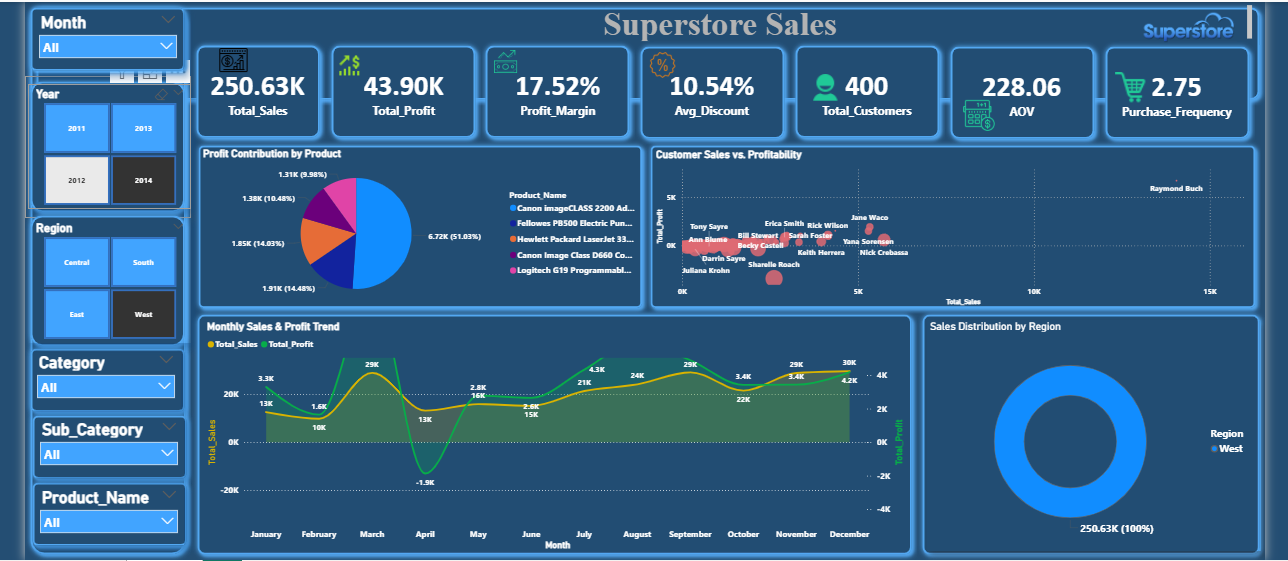

This screenshot's page, from the dashboard's own definition file:
{"tool":"powerbi","page":{"name":"Page 1","canvas":[2000,900],"ordinal":0},"visuals":[{"type":"shape","box":[0,0,2000,166.7],"z":0},{"type":"shape","box":[0,0,268.3,900],"z":1000},{"type":"shape","box":[268.3,61.2,216.7,166.7],"z":2000,"group":"g5"},{"type":"group","id":"g1","title":"Group 1","box":[1733.4,62.9,250,166.7],"z":2000,"group":"g18"},{"type":"shape","box":[484.7,60.7,250,166.7],"z":3000,"group":"g4"},{"type":"group","id":"g2","title":"Group 2","box":[1483.6,62.5,250,166.7],"z":3000,"group":"g19"},{"type":"shape","box":[10,10,250,166.7],"z":4000},{"type":"shape","box":[734.4,61.6,250,166.7],"z":4000,"group":"g3"},{"type":"shape","box":[984.2,63.3,250,166.7],"z":4000,"group":"g16"},{"type":"group","id":"g3","title":"Group 4","box":[734.4,61.6,250,166.7],"z":5000,"group":"g22"},{"type":"shape","box":[1233.9,62,250,166.7],"z":5000,"group":"g17"},{"type":"group","id":"g4","title":"Group 5","box":[484.7,60.7,250,166.7],"z":6000,"group":"g23"},{"type":"shape","box":[1483.6,62.5,250,166.7],"z":6000,"group":"g2"},{"type":"group","id":"g5","title":"Group 6","box":[268.3,61.2,216.7,166.7],"z":7000,"group":"g21"},{"type":"shape","box":[1733.4,62.9,250,166.7],"z":7000,"group":"g1"},{"type":"card","fields":{"Values":["All_Measure.Total_Sales"]},"box":[281.3,74.5,189.2,138.3],"z":8000,"group":"g5"},{"type":"group","id":"g6","title":"Group 7","box":[0,120,268.3,228.3],"z":8000},{"type":"shape","box":[0,120,266.7,228.3],"z":8000,"group":"g6"},{"type":"shape","box":[0,335,266.7,228.3],"z":8000,"group":"g8"},{"type":"card","fields":{"Values":["All_Measure.Total_Profit"]},"box":[500,74,218.3,138.3],"z":8001,"group":"g4"},{"type":"card","fields":{"Values":["All_Measure.Profit_Margin"]},"box":[750.1,74.9,218.3,138.3],"z":8002,"group":"g3"},{"type":"card","fields":{"Values":["All_Measure.Avg_Discount"]},"box":[999.2,74.9,218.3,138.3],"z":8002,"group":"g16"},{"type":"card","fields":{"Values":["All_Measure.Total_Customers"]},"box":[1248.2,75.3,218.3,138.3],"z":8003,"group":"g17"},{"type":"card","fields":{"Values":["All_Measure.AOV"]},"box":[1498.3,75.8,218.3,138.3],"z":8004,"group":"g2"},{"type":"card","fields":{"Values":["All_Measure.Purchase_Frequency"]},"box":[1748.4,76.1,218.3,138.3],"z":8005,"group":"g1"},{"type":"slicer","fields":{"Values":["FactSales.Order_Date.Variation.Date Hierarchy.Year"]},"box":[5,133.3,263.3,201.7],"z":9000,"group":"g6"},{"type":"slicer","fields":{"Values":["Dim_Geography.Region"]},"box":[5,348.3,263.3,201.7],"z":9000,"group":"g8"},{"type":"group","id":"g7","title":"Group 9","box":[0,550,266.7,120],"z":9000},{"type":"shape","box":[3.3,658.3,266.7,120],"z":9000,"group":"g10"},{"type":"group","id":"g8","title":"Group 10","box":[0,335,268.3,228.3],"z":10000},{"type":"shape","box":[0,0,266.7,120],"z":11000,"group":"g11"},{"type":"group","id":"g9","title":"Group 8","box":[3.3,766.7,266.7,120],"z":11000},{"type":"group","id":"g10","title":"Group 11","box":[3.3,658.3,266.7,120],"z":12000},{"type":"group","id":"g11","title":"Group 12","box":[0,0,266.7,120],"z":13000},{"type":"slicer","fields":{"Values":["FactSales.Order_Date.Variation.Date Hierarchy.Month"]},"box":[13.3,11.7,241.7,103.3],"z":13000,"group":"g11"},{"type":"shape","box":[0,550,266.7,120],"z":13000,"group":"g7"},{"type":"group","id":"g12","title":"Group 13","box":[1000,223.3,993.3,280],"z":14000},{"type":"shape","box":[270,495,1170,405],"z":14000,"group":"g14"},{"type":"slicer","fields":{"Values":["Dim_Product.Category"]},"box":[10,560,241.7,98.3],"z":14000,"group":"g7"},{"type":"shape","box":[3.3,766.7,266.7,120],"z":14000,"group":"g9"},{"type":"group","id":"g13","title":"Group 14","box":[1438.3,495,561.7,405],"z":15000},{"type":"areaChart","title":"Monthly Sales & Profit Trend","fields":{"Category":["FactSales.Order_Date.Variation.Date Hierarchy.Month"],"Y":["All_Measure.Total_Sales"],"Y2":["All_Measure.Total_Profit"]},"box":[290,513.3,1133.3,376.7],"z":15000,"group":"g14"},{"type":"slicer","fields":{"Values":["Dim_Product.Sub_Category"]},"box":[15,668.3,241.7,98.3],"z":15000,"group":"g10"},{"type":"group","id":"g14","title":"Group 15","box":[270,495,1170,405],"z":16000},{"type":"shape","box":[1438.3,495,561.7,405],"z":16000,"group":"g13"},{"type":"slicer","fields":{"Values":["Dim_Product.Product_Name"]},"box":[15,778.4,241.7,98.3],"z":16000,"group":"g9"},{"type":"group","id":"g15","title":"Group 16","box":[271.7,223.3,733.3,280],"z":17000},{"type":"donutChart","title":"Sales Distribution by Region","fields":{"Category":["Dim_Geography.Region"],"Y":["All_Measure.Total_Sales"]},"box":[1455,513.3,538.3,373.3],"z":17000,"group":"g13"},{"type":"textbox","box":[266,0,1718,68],"z":18000},{"type":"shape","box":[271.7,223.3,733.3,280],"z":18000,"group":"g15"},{"type":"group","id":"g16","title":"Group 4","box":[984.2,63.3,250,166.7],"z":19000,"group":"g24"},{"type":"pieChart","title":"Profit Contribution by Product","fields":{"Category":["Dim_Product.Product_Name"],"Y":["All_Measure.Total_Profit"]},"box":[283.4,235,716.7,260],"z":19000,"group":"g15"},{"type":"group","id":"g17","title":"Group 3","box":[1233.9,62,250,166.7],"z":20000,"group":"g20"},{"type":"shape","box":[1000,223.3,993.3,280],"z":20000,"group":"g12"},{"type":"image","box":[1789.4,10.8,176.4,57.6],"z":21000},{"type":"scatterChart","title":"Customer Sales vs. Profitability","fields":{"X":["All_Measure.Total_Sales"],"Y":["All_Measure.Total_Profit"],"Category":["Dim_Customer.Customer_Name"],"Size":["Sum(FactSales.Discount)"]},"box":[1012.4,235.7,970.9,258.7],"z":21000,"group":"g12"},{"type":"image","box":[282.6,68.4,108,52.2],"z":22000,"group":"g21"},{"type":"image","box":[500.4,75.6,43.2,52.2],"z":22001,"group":"g23"},{"type":"image","box":[738,72,75.6,50.4],"z":22002,"group":"g22"},{"type":"image","box":[984.7,79.2,88.2,45],"z":22003,"group":"g24"},{"type":"image","box":[1269.1,95.4,43.2,84.6],"z":22004,"group":"g20"},{"type":"image","box":[1508.5,133.2,55.8,91.8],"z":22005,"group":"g19"},{"type":"image","box":[1715.6,113.4,133.2,48.6],"z":22006,"group":"g18"},{"type":"group","id":"g18","title":"Group 17","box":[1715.6,62.9,267.8,166.7],"z":22007},{"type":"group","id":"g19","title":"Group 18","box":[1483.6,62.5,250,166.7],"z":22008},{"type":"group","id":"g20","title":"Group 19","box":[1233.9,62,250,166.7],"z":22009},{"type":"group","id":"g21","title":"Group 23","box":[268.3,61.2,216.7,166.7],"z":22013},{"type":"group","id":"g22","title":"Group 21","box":[734.4,61.6,250,166.7],"z":22014},{"type":"group","id":"g23","title":"Group 22","box":[484.7,60.7,250,166.7],"z":22015},{"type":"group","id":"g24","title":"Group 20","box":[984.2,63.3,250,166.7],"z":22016}]}

Visuals, with their boxes in screenshot pixels (x1, y1, x2, y2):
shape: l=27, t=0, r=1254, b=102
shape: l=27, t=0, r=192, b=552
shape: l=192, t=38, r=325, b=140
"Group 1" group: l=1091, t=39, r=1244, b=141
shape: l=324, t=37, r=478, b=140
"Group 2" group: l=937, t=38, r=1091, b=141
shape: l=33, t=6, r=186, b=108
shape: l=478, t=38, r=631, b=140
shape: l=631, t=39, r=784, b=141
"Group 4" group: l=478, t=38, r=631, b=140
shape: l=784, t=38, r=938, b=140
"Group 5" group: l=324, t=37, r=478, b=140
shape: l=937, t=38, r=1091, b=141
"Group 6" group: l=192, t=38, r=325, b=140
shape: l=1091, t=39, r=1244, b=141
card - All_Measure.Total_Sales: l=199, t=46, r=316, b=131
"Group 7" group: l=27, t=74, r=192, b=214
shape: l=27, t=74, r=191, b=214
shape: l=27, t=206, r=191, b=346
card - All_Measure.Total_Profit: l=334, t=45, r=468, b=130
card - All_Measure.Profit_Margin: l=487, t=46, r=621, b=131
card - All_Measure.Avg_Discount: l=640, t=46, r=774, b=131
card - All_Measure.Total_Customers: l=793, t=46, r=927, b=131
card - All_Measure.AOV: l=946, t=47, r=1080, b=131
card - All_Measure.Purchase_Frequency: l=1100, t=47, r=1234, b=132
slicer - FactSales.Order_Date.Variation.Date Hierarchy.Year: l=30, t=82, r=192, b=206
slicer - Dim_Geography.Region: l=30, t=214, r=192, b=338
"Group 9" group: l=27, t=338, r=191, b=411
shape: l=29, t=404, r=193, b=478
"Group 10" group: l=27, t=206, r=192, b=346
shape: l=27, t=0, r=191, b=74
"Group 8" group: l=29, t=471, r=193, b=544
"Group 11" group: l=29, t=404, r=193, b=478
"Group 12" group: l=27, t=0, r=191, b=74
slicer - FactSales.Order_Date.Variation.Date Hierarchy.Month: l=35, t=7, r=183, b=71
shape: l=27, t=338, r=191, b=411
"Group 13" group: l=641, t=137, r=1250, b=309
shape: l=193, t=304, r=911, b=552
slicer - Dim_Product.Category: l=33, t=344, r=181, b=404
shape: l=29, t=471, r=193, b=544
"Group 14" group: l=910, t=304, r=1254, b=552
"Monthly Sales & Profit Trend" areaChart: l=205, t=315, r=900, b=546
slicer - Dim_Product.Sub_Category: l=36, t=410, r=184, b=471
"Group 15" group: l=193, t=304, r=911, b=552
shape: l=910, t=304, r=1254, b=552
slicer - Dim_Product.Product_Name: l=36, t=478, r=184, b=538
"Group 16" group: l=194, t=137, r=644, b=309
"Sales Distribution by Region" donutChart: l=920, t=315, r=1250, b=544
textbox: l=190, t=0, r=1245, b=42
shape: l=194, t=137, r=644, b=309
"Group 4" group: l=631, t=39, r=784, b=141
"Profit Contribution by Product" pieChart: l=201, t=144, r=641, b=304
"Group 3" group: l=784, t=38, r=938, b=140
shape: l=641, t=137, r=1250, b=309
image: l=1125, t=7, r=1233, b=42
"Customer Sales vs. Profitability" scatterChart: l=648, t=145, r=1244, b=303
image: l=200, t=42, r=267, b=74
image: l=334, t=46, r=360, b=78
image: l=480, t=44, r=526, b=75
image: l=631, t=49, r=685, b=76
image: l=806, t=59, r=832, b=110
image: l=953, t=82, r=987, b=138
image: l=1080, t=70, r=1162, b=99
"Group 17" group: l=1080, t=39, r=1244, b=141
"Group 18" group: l=937, t=38, r=1091, b=141
"Group 19" group: l=784, t=38, r=938, b=140
"Group 23" group: l=192, t=38, r=325, b=140
"Group 21" group: l=478, t=38, r=631, b=140
"Group 22" group: l=324, t=37, r=478, b=140
"Group 20" group: l=631, t=39, r=784, b=141
